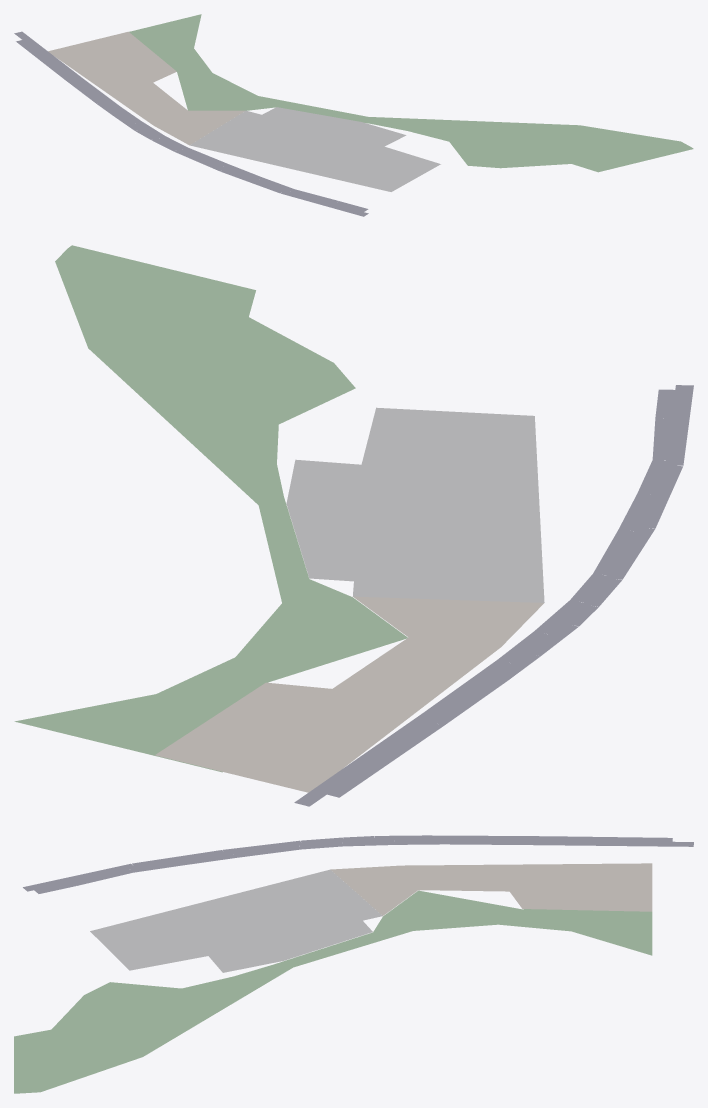
The model's file is 124_131_mid.glb.
3 views of the same model, one above another, from view 1: azimuth 30°, elevation 25°; view 2: azimuth 150°, elevation 25°; view 3: azimuth 270°, elevation 25° (orthographic). The views are drawn at different scales.
Size of the model in its own units: 455 by 10.73 by 533.
